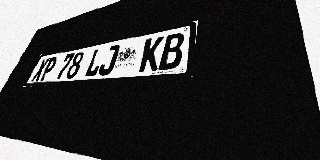7: (54, 53, 75, 80)
8: (64, 51, 86, 79)
B: (158, 32, 186, 71)
J: (97, 44, 121, 76)
K: (138, 36, 164, 72)
L: (83, 47, 107, 77)
P: (39, 56, 59, 81)
X: (31, 58, 50, 82)
